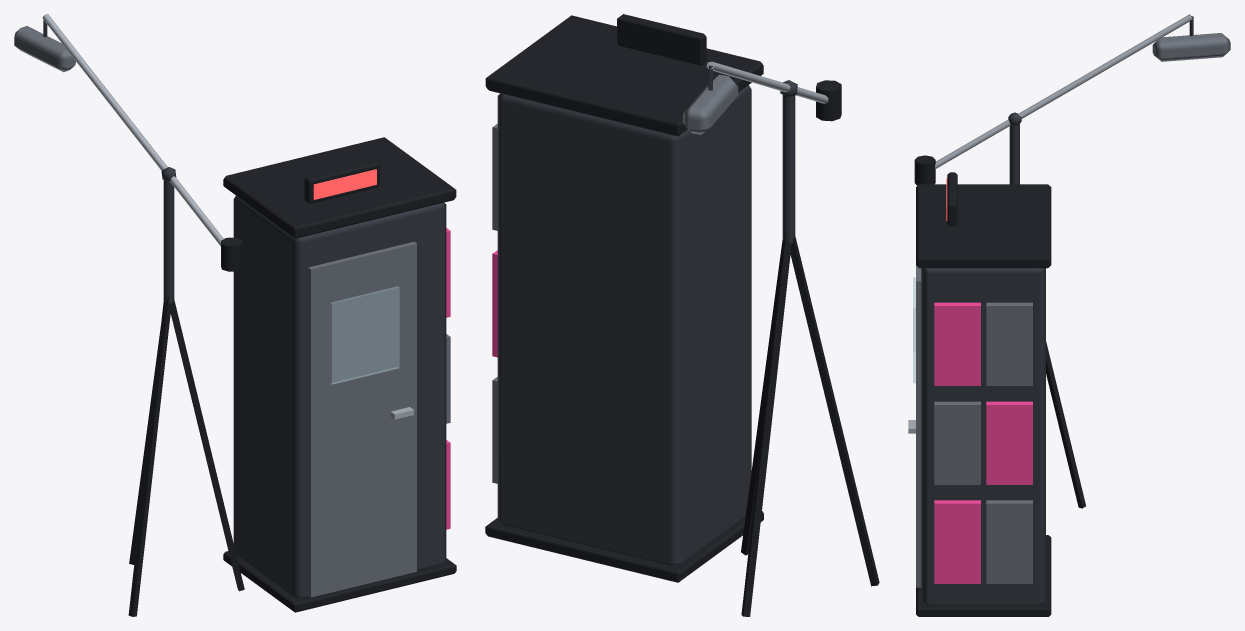
File: station_buffer_ausstattung_3_3.glb
3 renders of one model, left to right at view 1: azimuth 30°, elevation 25°; view 2: azimuth 150°, elevation 25°; view 3: azimuth 270°, elevation 25°, orthographic. The views are drawn at different scales.
Parts seen in each view (by area): view 1: station_buffer_ausstattung_3_3; view 2: station_buffer_ausstattung_3_3; view 3: station_buffer_ausstattung_3_3.
Part boxes in pixels (x1=…): station_buffer_ausstattung_3_3: x1=14, y1=14, x2=456, y2=616; station_buffer_ausstattung_3_3: x1=485, y1=14, x2=879, y2=616; station_buffer_ausstattung_3_3: x1=908, y1=14, x2=1230, y2=616.
Size of the model in its own units: 1.23 by 2.05 by 1.24.
